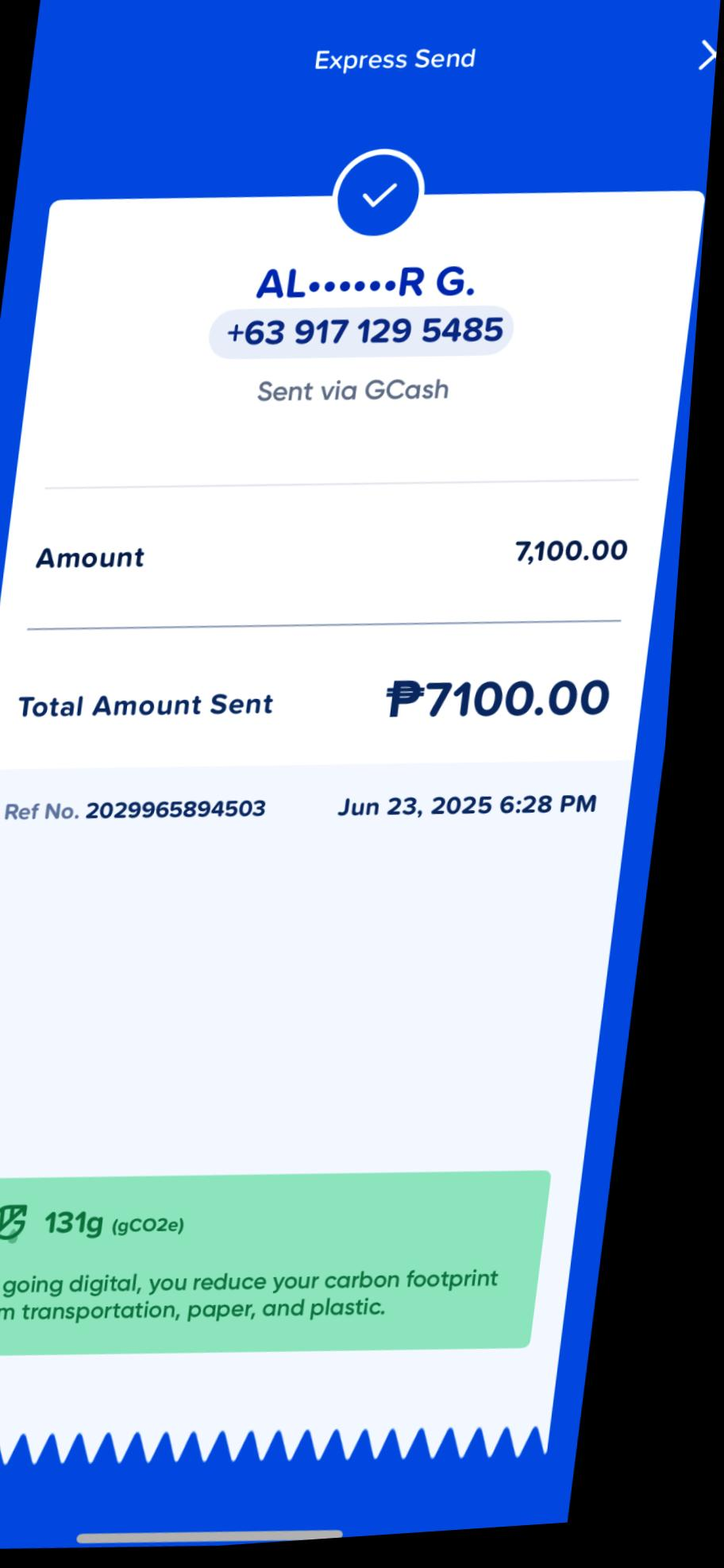Receipt: (0, 15, 719, 1548)
